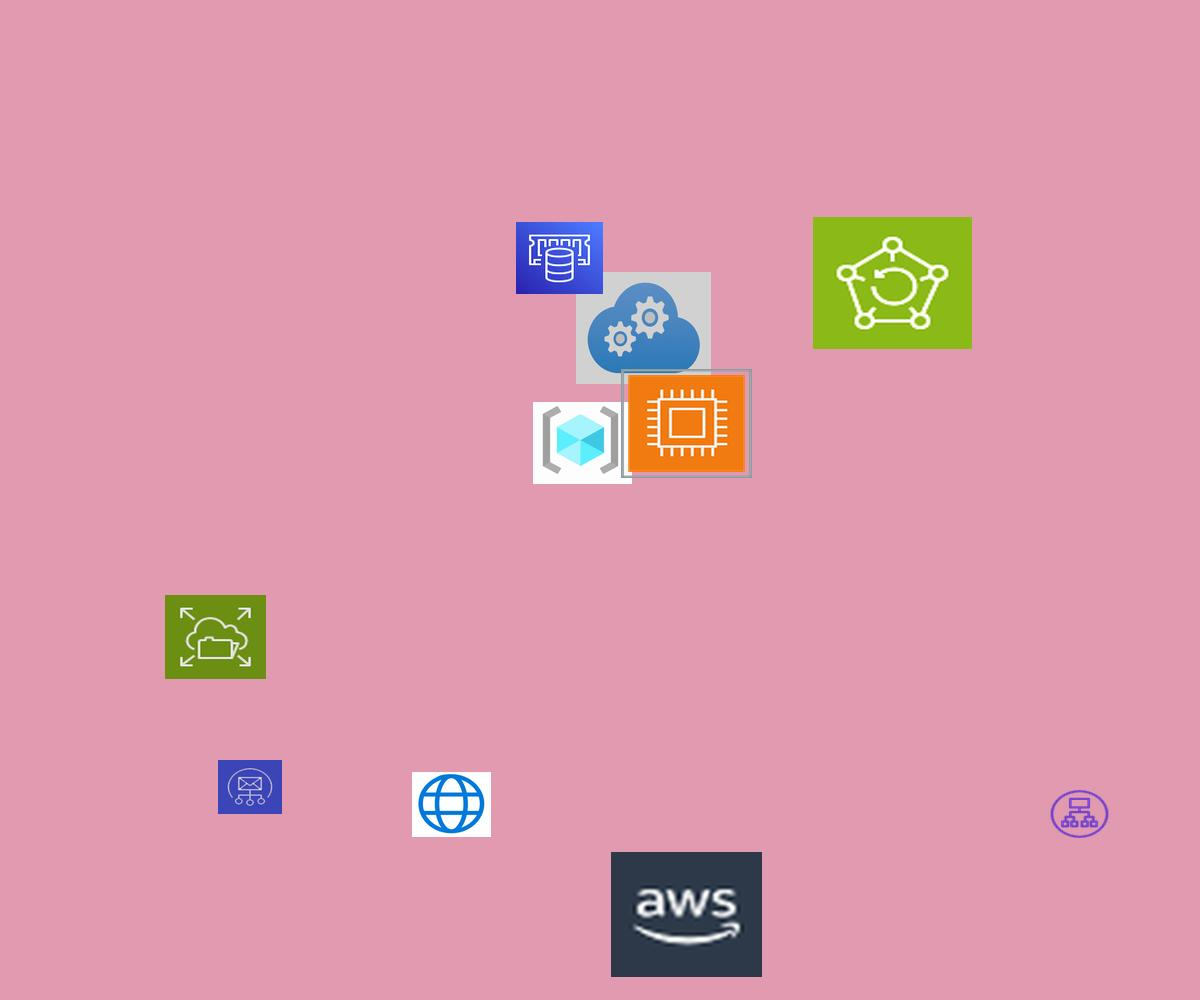AWS-Backup: (813, 217, 972, 349)
AWS-Category_Compute: (621, 369, 752, 478)
AWS-Cloud-logo: (611, 852, 762, 977)
AWS-EFS: (165, 595, 266, 679)
AWS-ElastiCache: (516, 222, 603, 294)
AWS-Res_Elastic-Load-Balancing_Application-Load-Balancer: (1048, 788, 1111, 840)
AWS-Simple-Email-Service: (218, 760, 282, 814)
Azure_cloud_services: (576, 272, 711, 384)
Azure_http: (412, 772, 491, 837)
Azure_resource_group: (533, 402, 632, 484)
